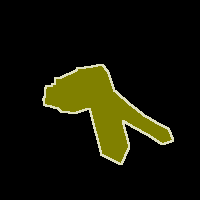tie: (43, 64, 173, 164)
